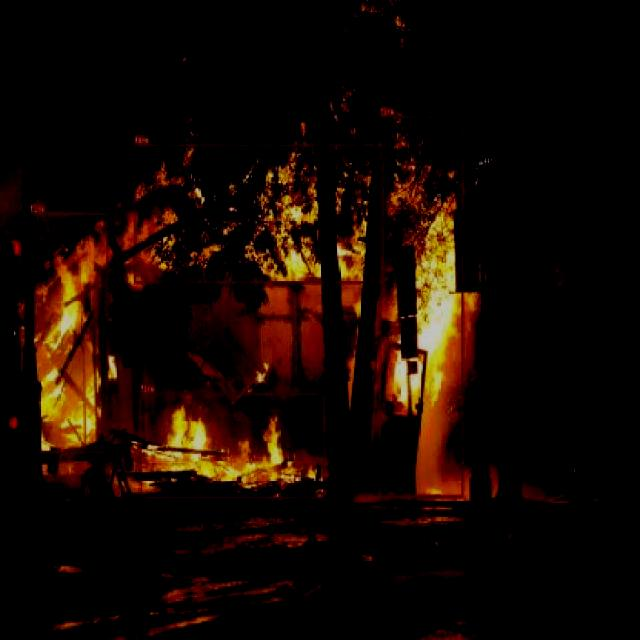fire: (133, 144, 384, 282), (378, 115, 464, 498), (139, 392, 324, 498), (29, 212, 108, 454)
